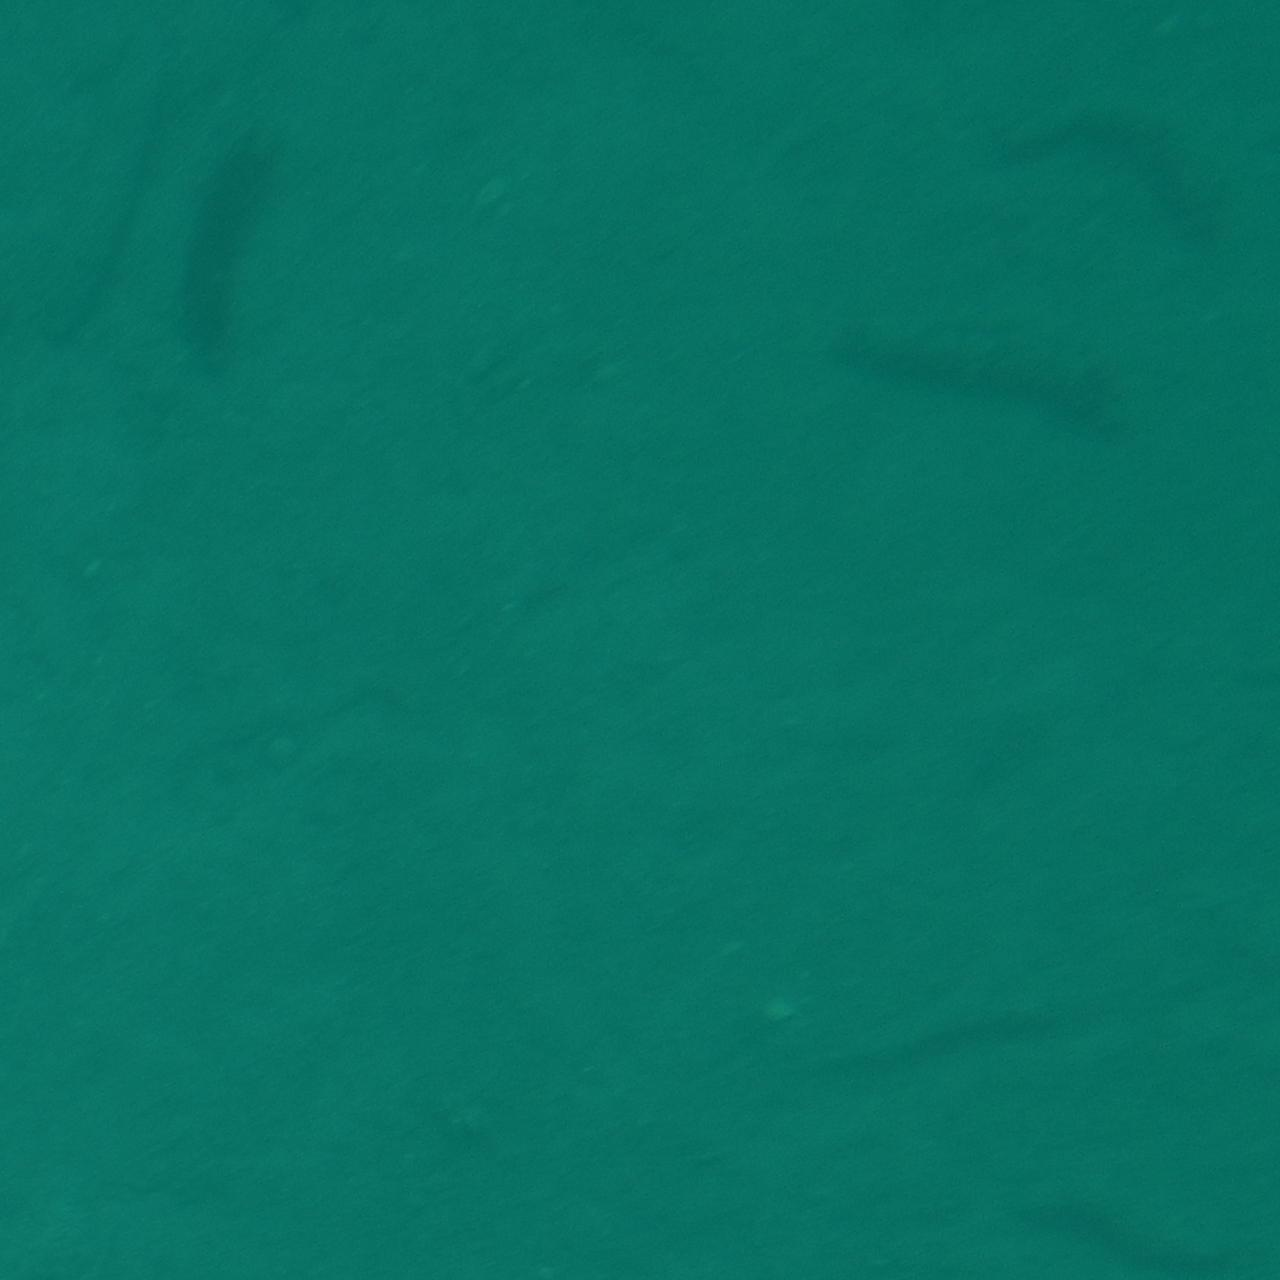Holothuria tubulosa: (831, 284, 1179, 444), (956, 54, 1244, 239)
